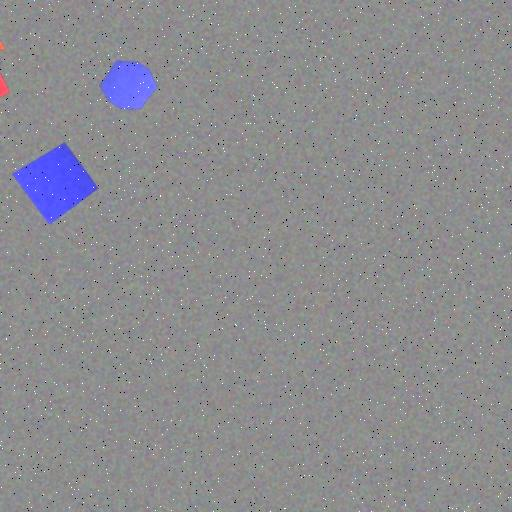BLUE_SQUARE: (12, 142, 99, 226)
